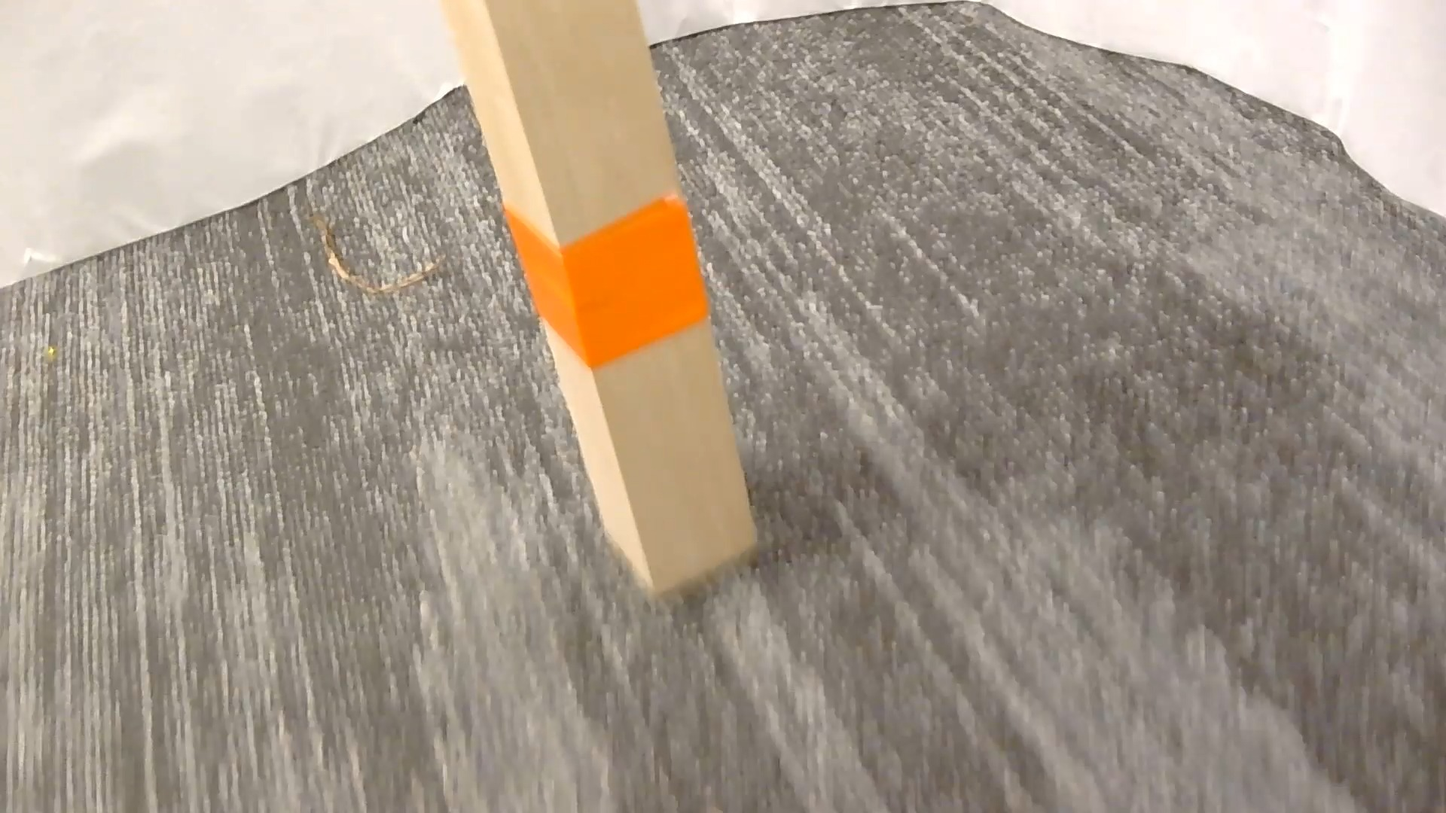Wooden Block: (441, 0, 756, 592)
